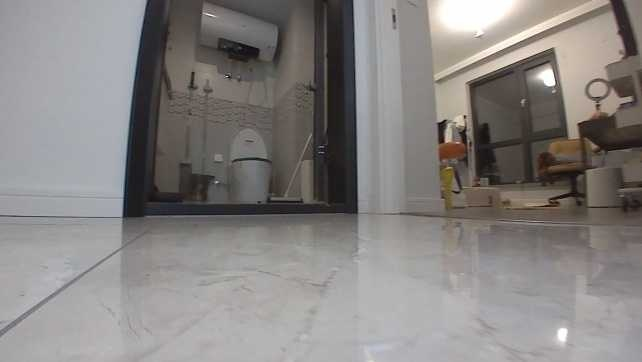door_sill: (141, 196, 350, 220)
toilet: (224, 125, 275, 202)
